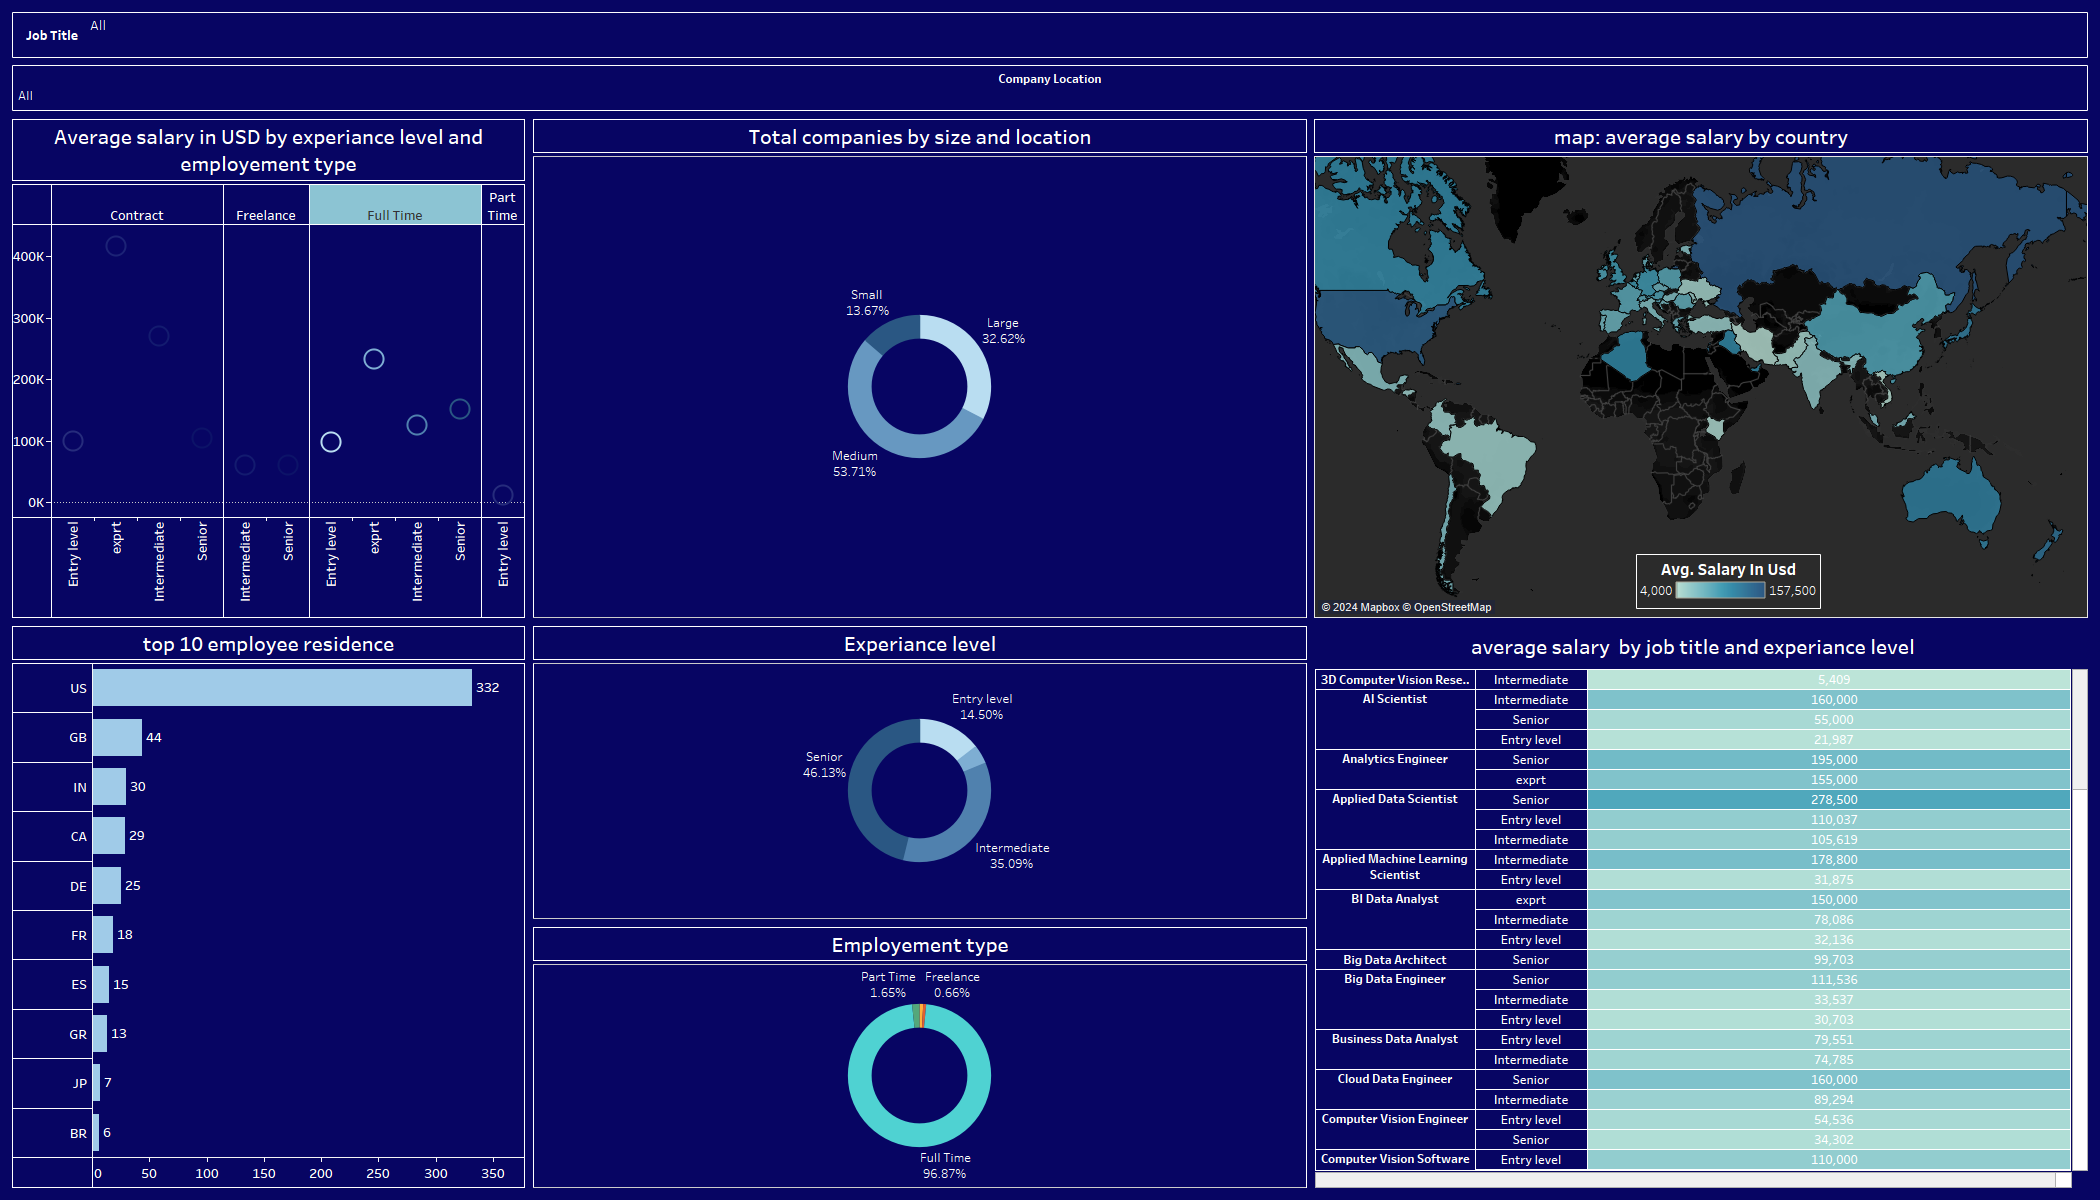

This screenshot's page, from the dashboard's own definition file:
{"tool":"tableau","page":{"name":"Dashboard 1","canvas":[2100,1200],"ordinal":0},"visuals":[{"type":"filter","title":"Average salary in USD by experiance level and employement type","param":"[federated.0vw3yxj0uggw0q104x2ix1jrrp6o].[none:job_title:nk]","box":[8,8,2084,35]},{"type":"filter","title":"Total companies by size and location","param":"[federated.0vw3yxj0uggw0q104x2ix1jrrp6o].[none:company_location:nk]","box":[8,43,2084,34]},{"type":"worksheet","title":"Average salary in USD by experiance level and employement type","mark":"Shape","rows":["salary_in_usd"],"cols":["employment_type","experience_level"],"box":[8,115,521,506.9]},{"type":"worksheet","title":"Total companies by size and location","mark":"Pie","rows":["Calculation_454863623951925249","Calculation_454863623951925249"],"box":[529,115,781.5,506.9]},{"type":"worksheet","title":"map: average salary by country ","mark":"Automatic","box":[1310.5,115,781.5,506.9]},{"type":"legend","title":"map: average salary by country ","param":"[federated.0vw3yxj0uggw0q104x2ix1jrrp6o].[avg:salary_in_usd:qk]","box":[1636,554,185,55]},{"type":"worksheet","title":"top 10 employee residence","mark":"Automatic","rows":["employee_residence"],"cols":["employee_residence"],"box":[8,621.9,521,570.1]},{"type":"worksheet","title":"Experiance level","mark":"Pie","rows":["Calculation_454863623951925249","Calculation_454863623951925249"],"box":[529,621.9,782,300.8]},{"type":"worksheet","title":"average salary  by job title and experiance level","mark":"Square","rows":["job_title","experience_level"],"box":[1311,621.9,781,570.1]},{"type":"worksheet","title":"Employement type","mark":"Pie","rows":["Calculation_454863623951925249","Calculation_454863623951925249"],"box":[529,922.8,782,269.2]}]}

Visuals, with their boxes in screenshot pixels (x1, y1, x2, y2), scaled from the page's 2100x1200 canvas onto the 2100x1200 screenshot:
"Average salary in USD by experiance level and employement type" filter: detection(8, 8, 2092, 43)
"Total companies by size and location" filter: detection(8, 43, 2092, 77)
"Average salary in USD by experiance level and employement type" worksheet (Shape marks): detection(8, 115, 529, 622)
"Total companies by size and location" worksheet (Pie marks): detection(529, 115, 1310, 622)
"map: average salary by country " worksheet: detection(1310, 115, 2092, 622)
"map: average salary by country " legend: detection(1636, 554, 1821, 609)
"top 10 employee residence" worksheet: detection(8, 622, 529, 1192)
"Experiance level" worksheet (Pie marks): detection(529, 622, 1311, 923)
"average salary  by job title and experiance level" worksheet (Square marks): detection(1311, 622, 2092, 1192)
"Employement type" worksheet (Pie marks): detection(529, 923, 1311, 1192)
